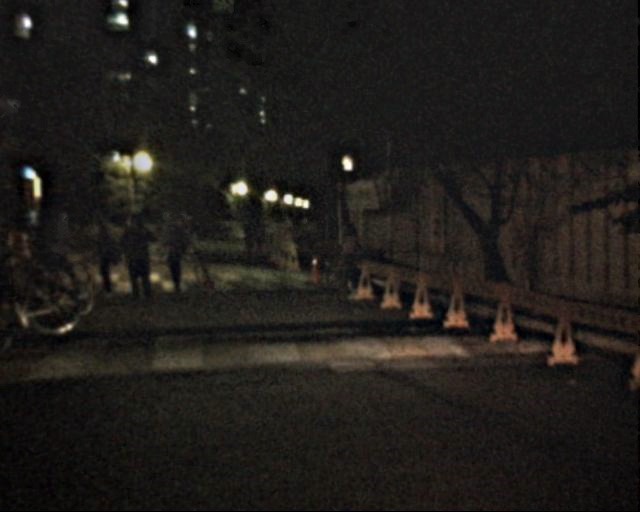person: (44, 208, 79, 294), (159, 211, 194, 297), (121, 213, 155, 296), (335, 223, 367, 302), (88, 213, 120, 291), (156, 212, 176, 260), (177, 210, 196, 257), (238, 215, 254, 255), (249, 214, 264, 251)
